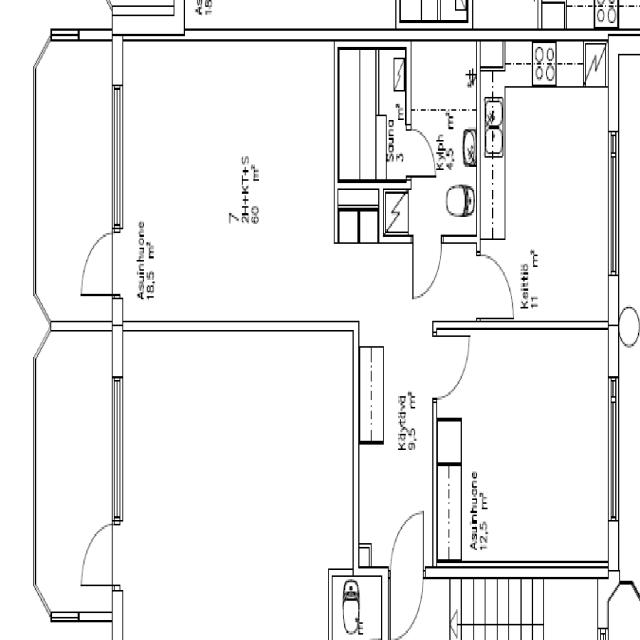door: (78, 516, 116, 591), (434, 330, 472, 400), (78, 226, 116, 296), (388, 505, 426, 574), (477, 250, 514, 316), (411, 236, 444, 300), (404, 122, 438, 180), (32, 294, 52, 357), (617, 304, 640, 348)
window: (107, 84, 127, 231), (107, 378, 126, 523)
zone: (118, 330, 354, 640), (120, 36, 337, 329), (436, 322, 618, 567), (482, 38, 614, 330), (33, 320, 116, 614), (33, 28, 116, 320), (408, 39, 478, 236), (337, 50, 377, 185), (538, 576, 614, 640), (376, 48, 408, 184), (329, 571, 389, 640), (436, 462, 462, 565), (358, 349, 385, 444), (398, 0, 469, 23), (436, 420, 462, 463)
